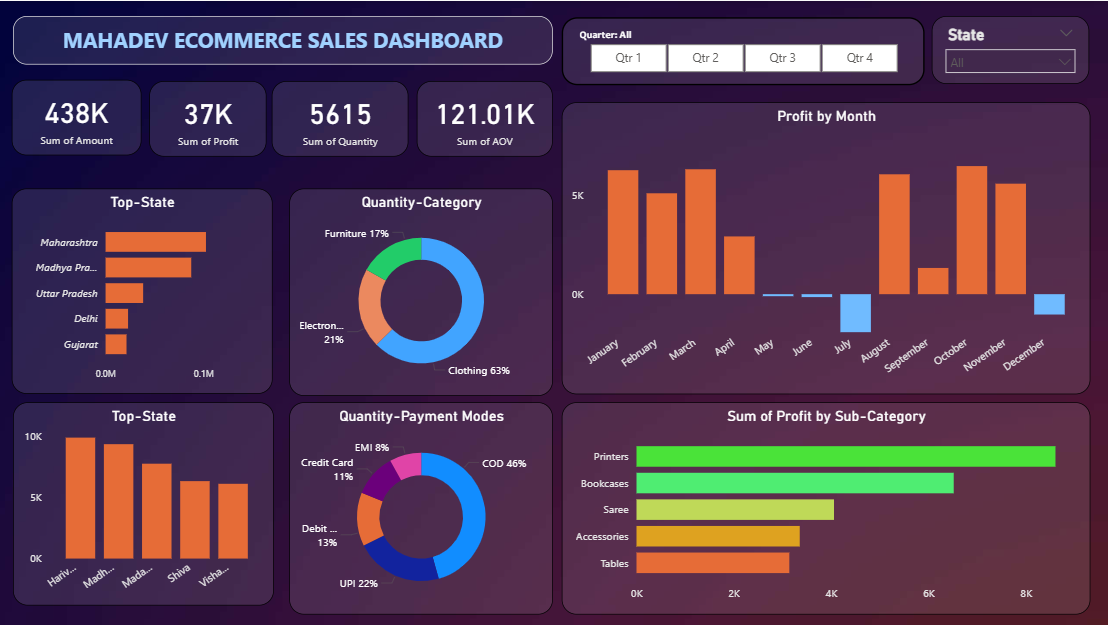

What the dashboard file says about the page in this screenshot:
{"tool":"powerbi","page":{"name":"ECOMMERCE SALES DESHBOARD","canvas":[1280,720],"ordinal":0},"visuals":[{"type":"textbox","box":[17.5,17.5,622.5,56.2],"z":0},{"type":"columnChart","title":"Profit by Month","fields":{"Category":["Orders_converted_dates (1).Order Date.Variation.Date Hierarchy.Month"],"Y":["Sum(Details.Profit)"]},"box":[650.3,117,609.3,336.6],"z":1000},{"type":"barChart","fields":{"Category":["Details.Sub-Category"],"Y":["Sum(Details.Profit)"]},"box":[650.3,463.3,609.3,244.9],"z":2000},{"type":"donutChart","title":"Quantity-Payment Modes","fields":{"Category":["Details.PaymentMode"],"Y":["CountNonNull(Details.PaymentMode)"]},"box":[335.4,463.3,304,244.9],"z":3000},{"type":"donutChart","title":"Quantity-Category","fields":{"Category":["Details.Category"],"Y":["Sum(Details.Quantity)"]},"box":[335.4,216,304,238.9],"z":4000},{"type":"barChart","title":"Top-State","fields":{"Category":["Orders_converted_dates (1).State"],"Y":["Sum(Details.Amount)"]},"box":[15.7,216,300.4,236.5],"z":5000},{"type":"clusteredColumnChart","title":"Top-State","fields":{"Category":["Orders_converted_dates (1).CustomerName"],"Y":["Sum(Details.Amount)"]},"box":[16.9,463.3,300.4,234],"z":6000},{"type":"card","fields":{"Values":["Sum(Details.Amount)"]},"box":[15.4,90.8,149.2,86.9],"z":7000},{"type":"card","fields":{"Values":["Sum(Details.Profit)"]},"box":[174.6,91.5,135.4,86.9],"z":8000},{"type":"card","fields":{"Values":["Sum(Details.Quantity)"]},"box":[316.2,91.5,157.7,86.9],"z":9000},{"type":"card","fields":{"Values":["Sum(Details.AVerage order value)"]},"box":[482.3,91.5,156.9,86.9],"z":10000},{"type":"slicer","fields":{"Values":["Orders_converted_dates (1).Order Date.Variation.Date Hierarchy.Quarter"]},"box":[650,18.6,418.6,78.6],"z":11000},{"type":"slicer","fields":{"Values":["Orders_converted_dates (1).State"]},"box":[1077.1,17.1,181.4,78.6],"z":12000}]}

Visuals, with their boxes in screenshot pixels (x1, y1, x2, y2), scaled from the page's 1280x720 canvas onto the 1108x625 screenshot:
textbox: locate(15, 15, 554, 64)
"Profit by Month" columnChart: locate(563, 102, 1090, 394)
barChart - Details.Sub-Category x Sum(Details.Profit): locate(563, 402, 1090, 615)
"Quantity-Payment Modes" donutChart: locate(290, 402, 553, 615)
"Quantity-Category" donutChart: locate(290, 188, 553, 395)
"Top-State" barChart: locate(14, 188, 274, 393)
"Top-State" clusteredColumnChart: locate(15, 402, 275, 605)
card - Sum(Details.Amount): locate(13, 79, 142, 154)
card - Sum(Details.Profit): locate(151, 79, 268, 155)
card - Sum(Details.Quantity): locate(274, 79, 410, 155)
card - Sum(Details.AVerage order value): locate(417, 79, 553, 155)
slicer - Orders_converted_dates (1).Order Date.Variation.Date Hierarchy.Quarter: locate(563, 16, 925, 84)
slicer - Orders_converted_dates (1).State: locate(932, 15, 1089, 83)
